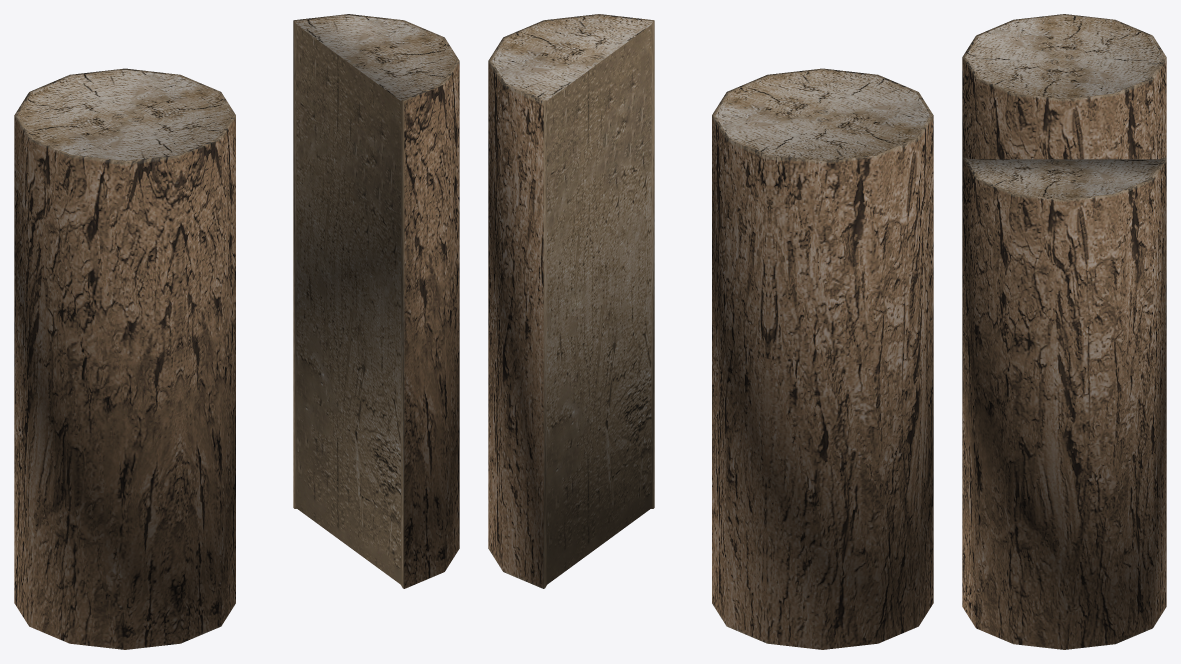
The model's file is ChoppedWood_fbx.fbx.
3 renders of one model, left to right at view 1: azimuth 30°, elevation 25°; view 2: azimuth 150°, elevation 25°; view 3: azimuth 270°, elevation 25°, orthographic. The views are drawn at different scales.
Visible parts, largest first — view 1: Circle_005, Circle_002; view 2: Circle_005, Circle_002; view 3: Circle_002, Circle_005.
Boxes of the visible parts, x1,y1,x2,y2 form: Circle_005: [14, 68, 235, 649]; Circle_002: [293, 14, 459, 588]; Circle_005: [712, 68, 933, 649]; Circle_002: [488, 14, 654, 588]; Circle_002: [962, 157, 1166, 649]; Circle_005: [962, 14, 1166, 159].
Size of the model in its own units: 4.6 by 5.16 by 2.13.
